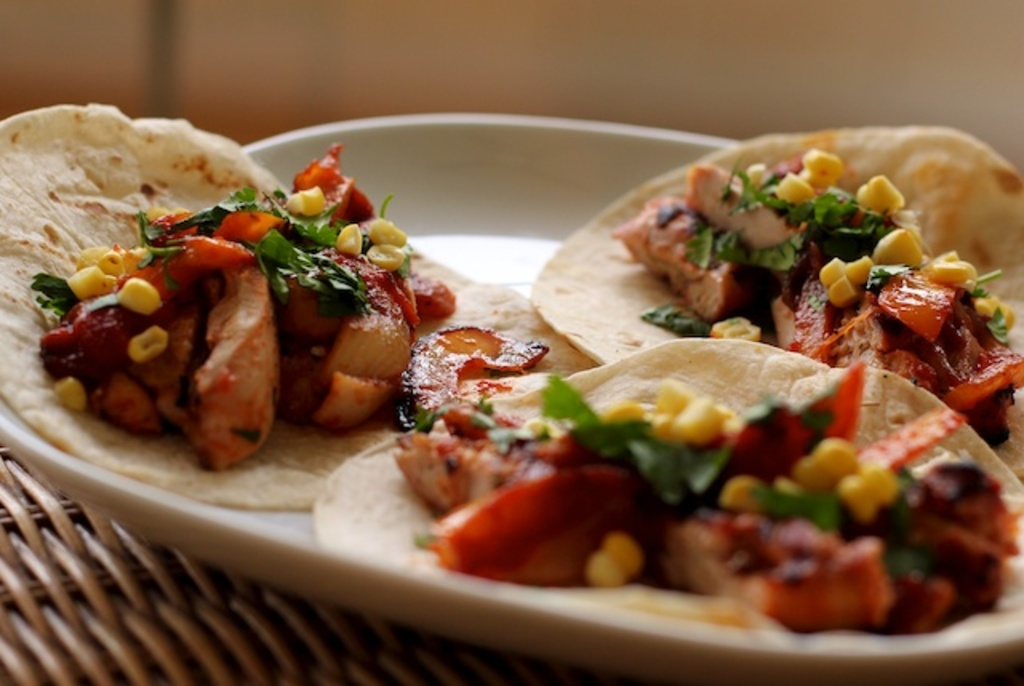taco: (0, 115, 562, 516)
